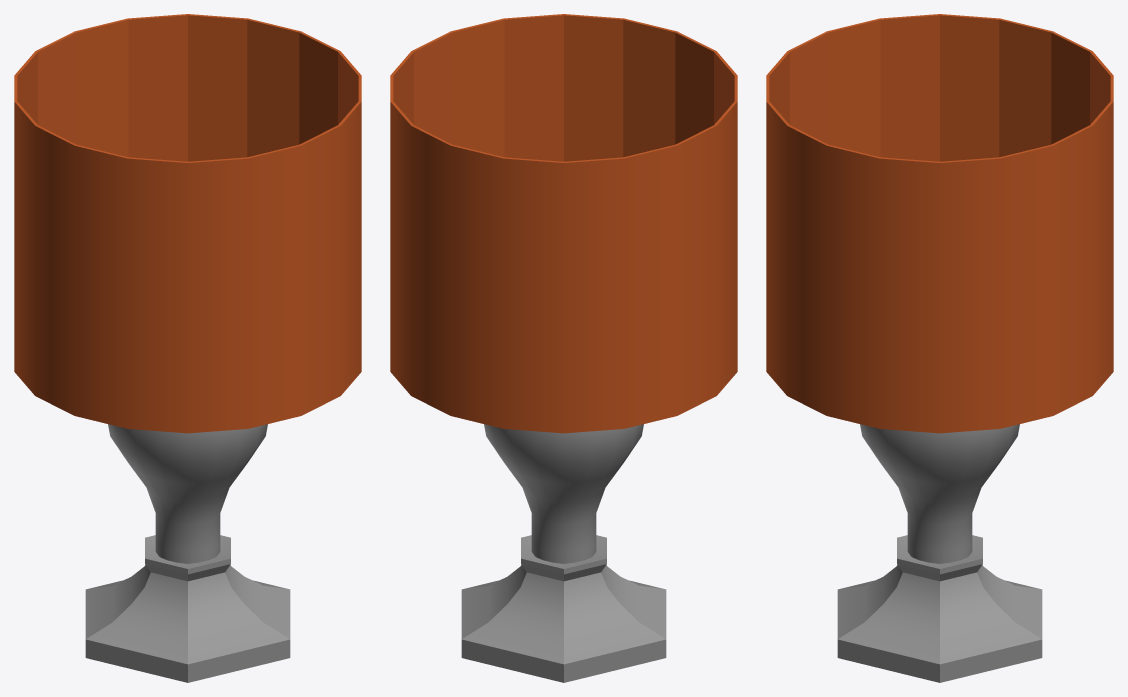
The model's file is Lamp_Fancy.FBX.
3 renders of one model, left to right at view 1: azimuth 30°, elevation 25°; view 2: azimuth 150°, elevation 25°; view 3: azimuth 270°, elevation 25°, orthographic.
Visible parts, largest first — view 1: Lamp_Fancy; view 2: Lamp_Fancy; view 3: Lamp_Fancy.
Boxes of the visible parts, x1,y1,x2,y2 form: Lamp_Fancy: (14,14,361,682); Lamp_Fancy: (390,14,737,682); Lamp_Fancy: (766,14,1113,682).
Size of the model in its own units: 16.38 by 27.89 by 16.13.
